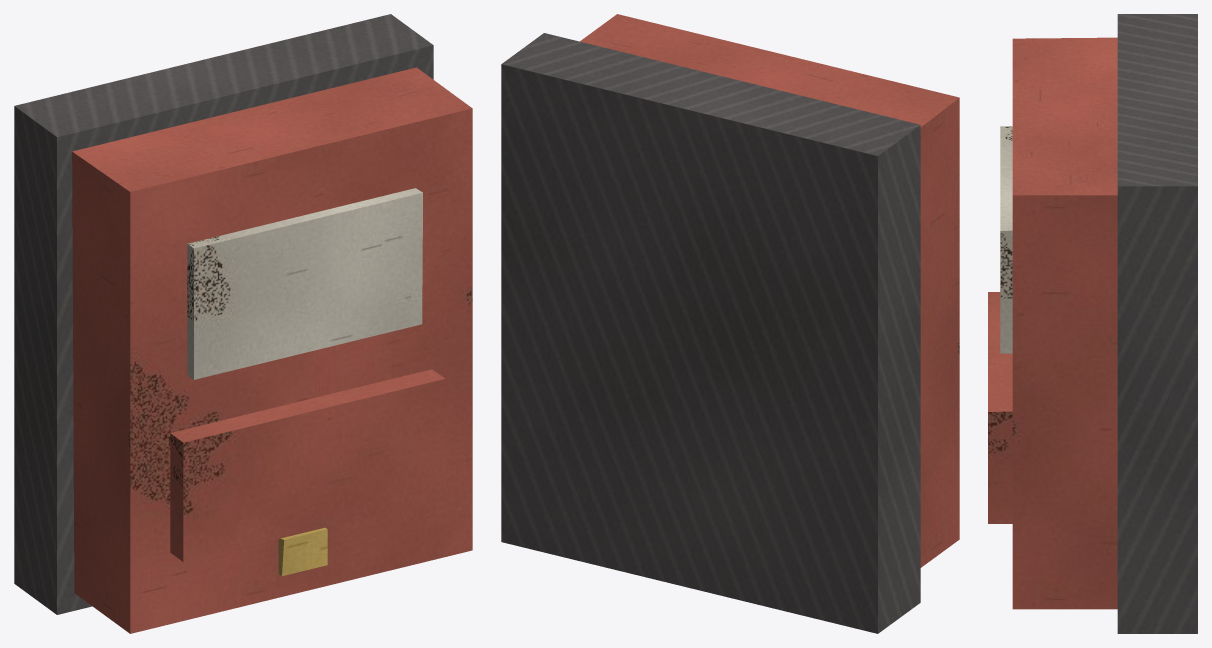
File: firealarm_v2.glb
3 renders of one model, left to right at view 1: azimuth 30°, elevation 25°; view 2: azimuth 150°, elevation 25°; view 3: azimuth 270°, elevation 25°, orthographic. The views are drawn at different scales.
Visible parts, largest first — view 1: Variant_firealarm_2; view 2: Variant_firealarm_2; view 3: Variant_firealarm_2.
Boxes of the visible parts, x1,y1,x2,y2 form: Variant_firealarm_2: [14, 14, 472, 633]; Variant_firealarm_2: [501, 14, 959, 633]; Variant_firealarm_2: [988, 14, 1197, 633].
Size of the model in its own units: 0.132 by 0.16 by 0.068.
Materials: 4 (4 with a texture image).
